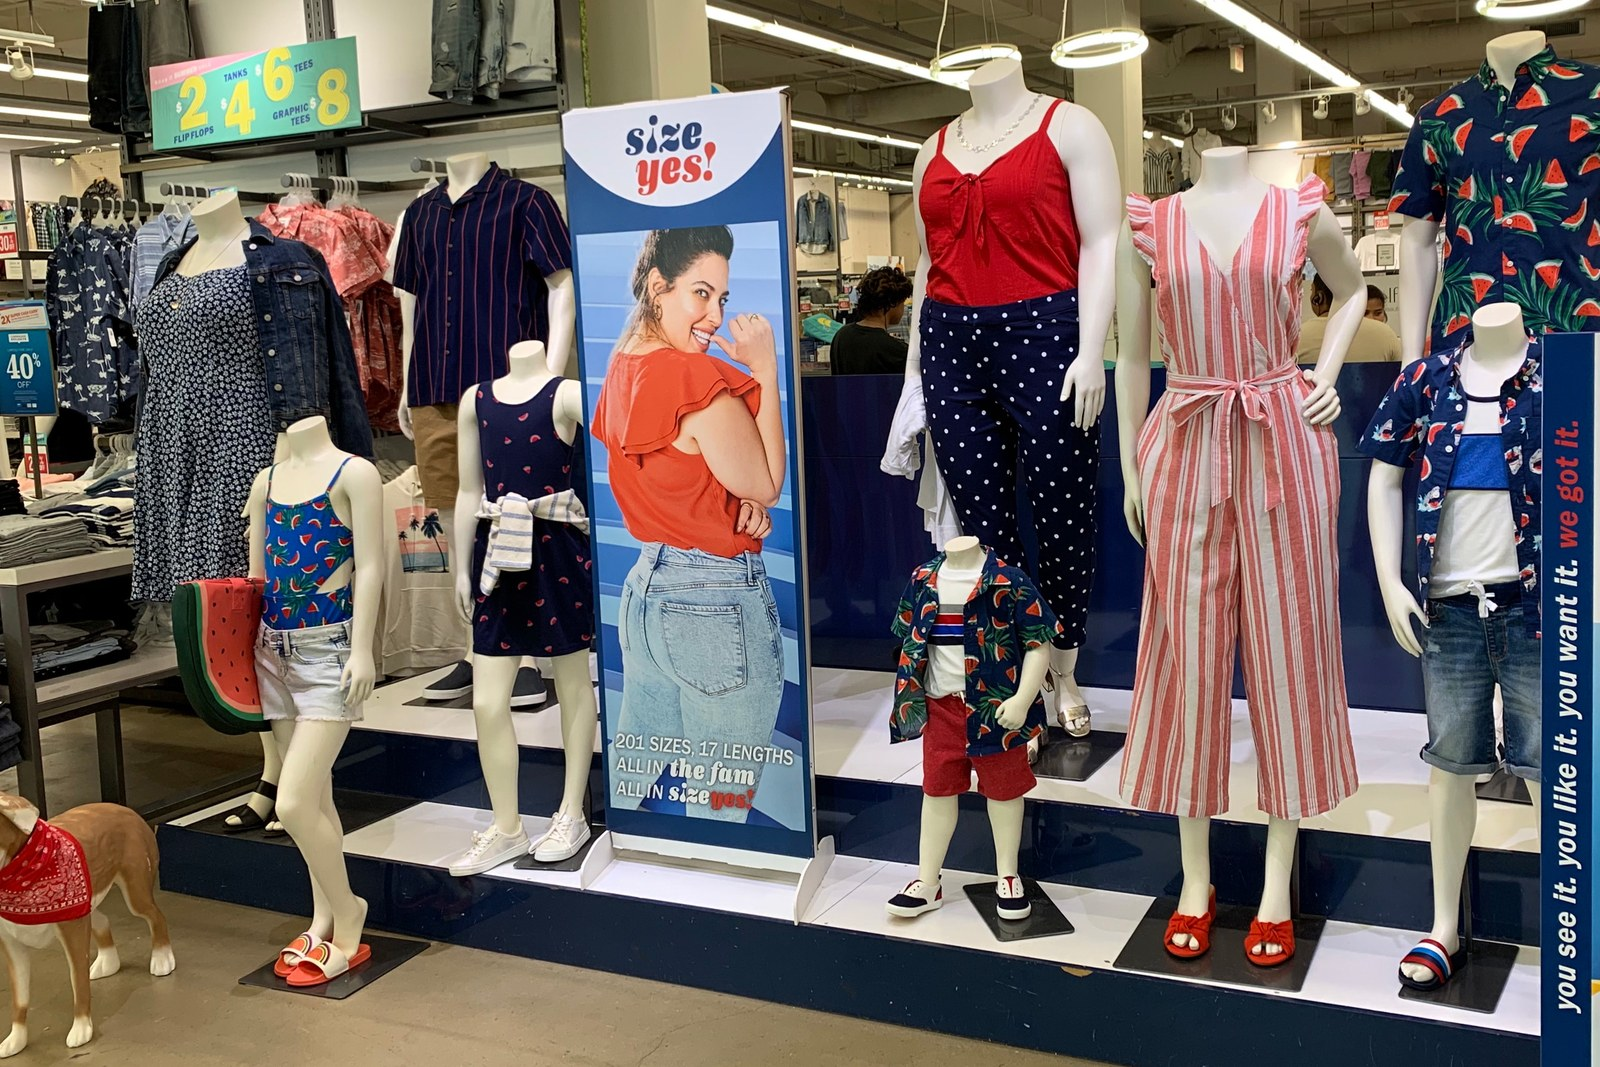person: (827, 257, 915, 387)
person-like: (1101, 136, 1374, 972), (901, 47, 1119, 745), (1352, 290, 1546, 1005), (122, 183, 382, 618), (238, 403, 395, 998), (445, 334, 606, 886), (387, 145, 585, 539), (882, 523, 1057, 925)
